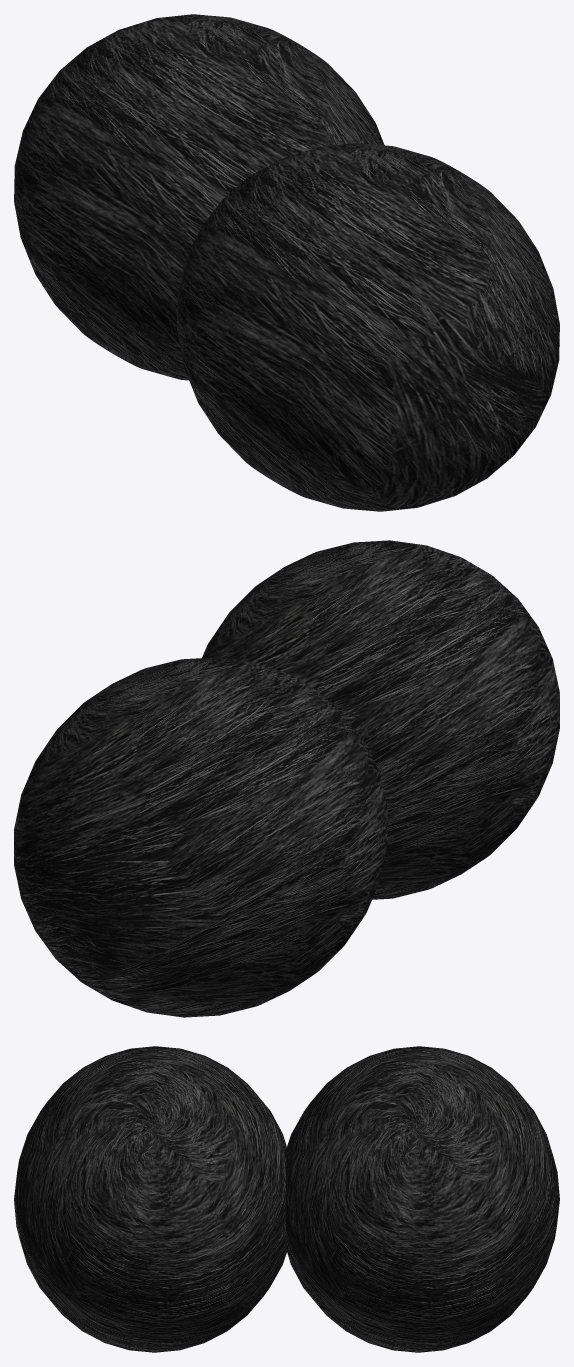
The model's file is guineaarms.glb.
The picture shows the model from 3 angles, top to bottom: view 1: azimuth 30°, elevation 25°; view 2: azimuth 150°, elevation 25°; view 3: azimuth 270°, elevation 25°; orthographic projection. The views are drawn at different scales.
Parts seen in each view (by area): view 1: spfrontRleg, spfrontLleg; view 2: spfrontLleg, spfrontRleg; view 3: spfrontLleg, spfrontRleg.
Part boxes in pixels (x1,y1,x2,y2): spfrontRleg: (177,143,559,511); spfrontLleg: (14,14,384,380); spfrontLleg: (14,657,387,1017); spfrontRleg: (202,540,559,899); spfrontLleg: (285,1046,559,1352); spfrontRleg: (14,1046,286,1352).
Size of the model in its own units: 0.8143 by 0.7767 by 1.44.
Materials: 2 (2 with a texture image).
